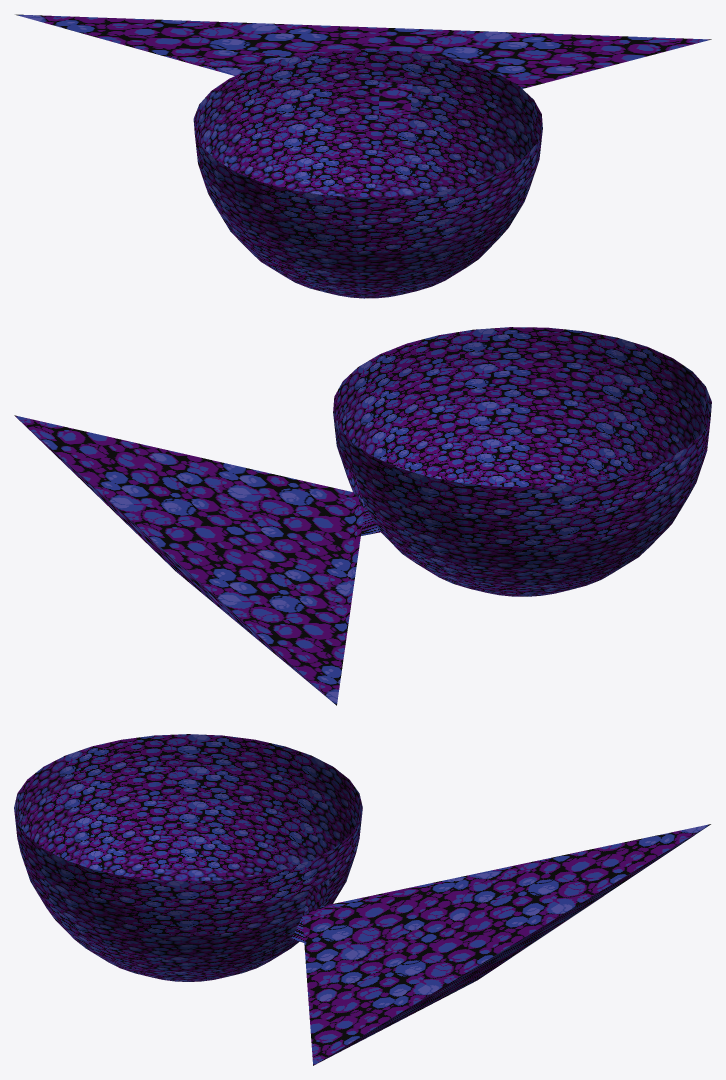
Rendered from Back2.gltf.
3 views of the same model, one above another, from view 1: azimuth 30°, elevation 25°; view 2: azimuth 150°, elevation 25°; view 3: azimuth 270°, elevation 25° (orthographic). The views are drawn at different scales.
Parts seen in each view (by area): view 1: 球; view 2: 球; view 3: 球.
Part boxes in pixels (<box>): 球: <box>15,14,711,298</box>; 球: <box>14,327,711,705</box>; 球: <box>14,734,710,1065</box>.
Size of the model in its own units: 3.68 by 1 by 4.
1 material, 1 textured.
